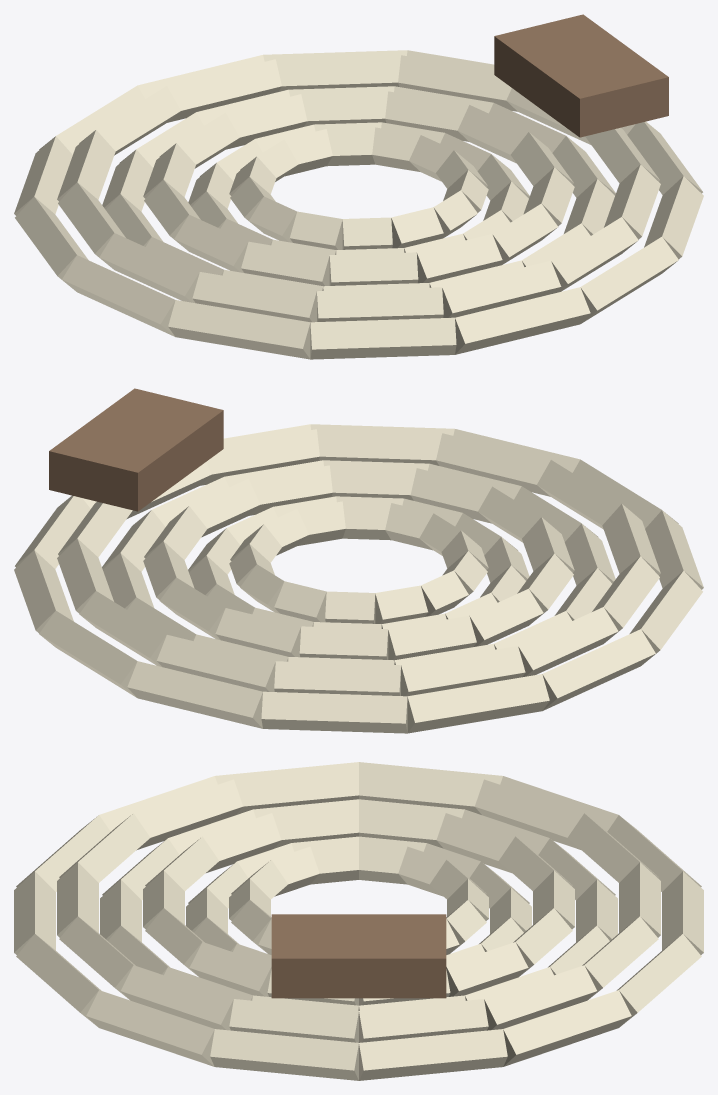
The model's file is hot-air-balloon-festival-balloon-crown-rope-coil-6d5de266__38484.glb.
3 renders of one model, top to bottom at view 1: azimuth 30°, elevation 25°; view 2: azimuth 150°, elevation 25°; view 3: azimuth 270°, elevation 25°, orthographic. The views are drawn at different scales.
Visible parts, largest first — view 1: balloon-crown-rope-coil-rope, balloon-crown-rope-coil-leather; view 2: balloon-crown-rope-coil-rope, balloon-crown-rope-coil-leather; view 3: balloon-crown-rope-coil-rope, balloon-crown-rope-coil-leather.
Part boxes in pixels (x1,y1,x2,y2): balloon-crown-rope-coil-rope: (14,50,703,359); balloon-crown-rope-coil-leather: (494,14,668,137); balloon-crown-rope-coil-rope: (14,424,703,733); balloon-crown-rope-coil-leather: (49,388,223,511); balloon-crown-rope-coil-rope: (14,762,703,1080); balloon-crown-rope-coil-leather: (271,914,446,998).
Size of the model in its own units: 0.8068 by 0.145 by 0.789.
